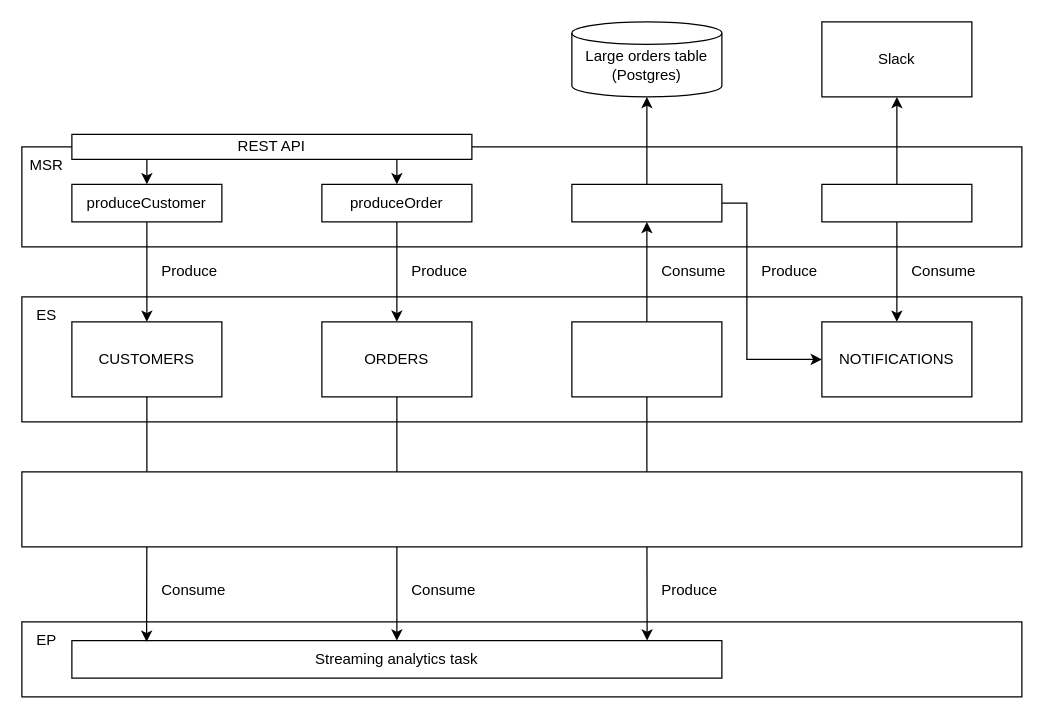
This 1044x719 diagram has some shape labels left out. Here are the shapes that lost their labels. From the top down, the centre of each, then its label:
At [646,202]: "consumeLargeOrder".
At [896,202]: "consumeNotification".
At [646,359]: "LARGE.ORDERS".
At [521,509]: "EEM".
